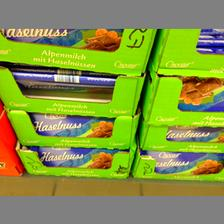Schokolade: (11, 69, 114, 93), (27, 113, 115, 137), (26, 146, 122, 168), (142, 150, 222, 174), (173, 76, 223, 112)
